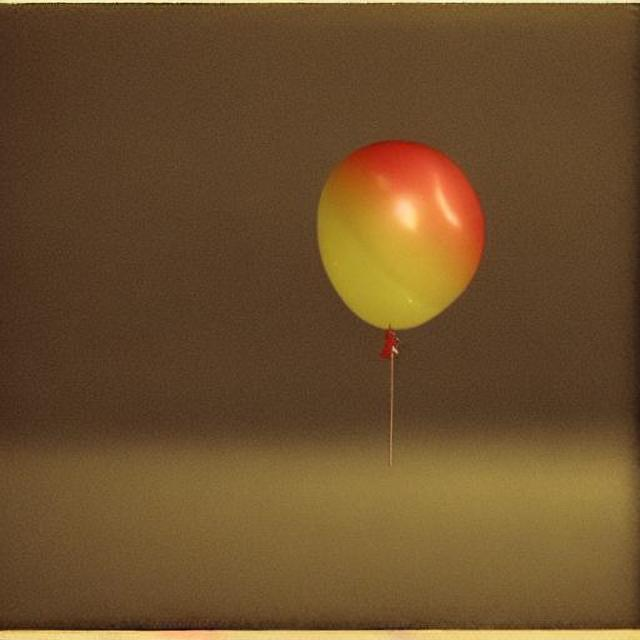balloon: (301, 133, 487, 378)
